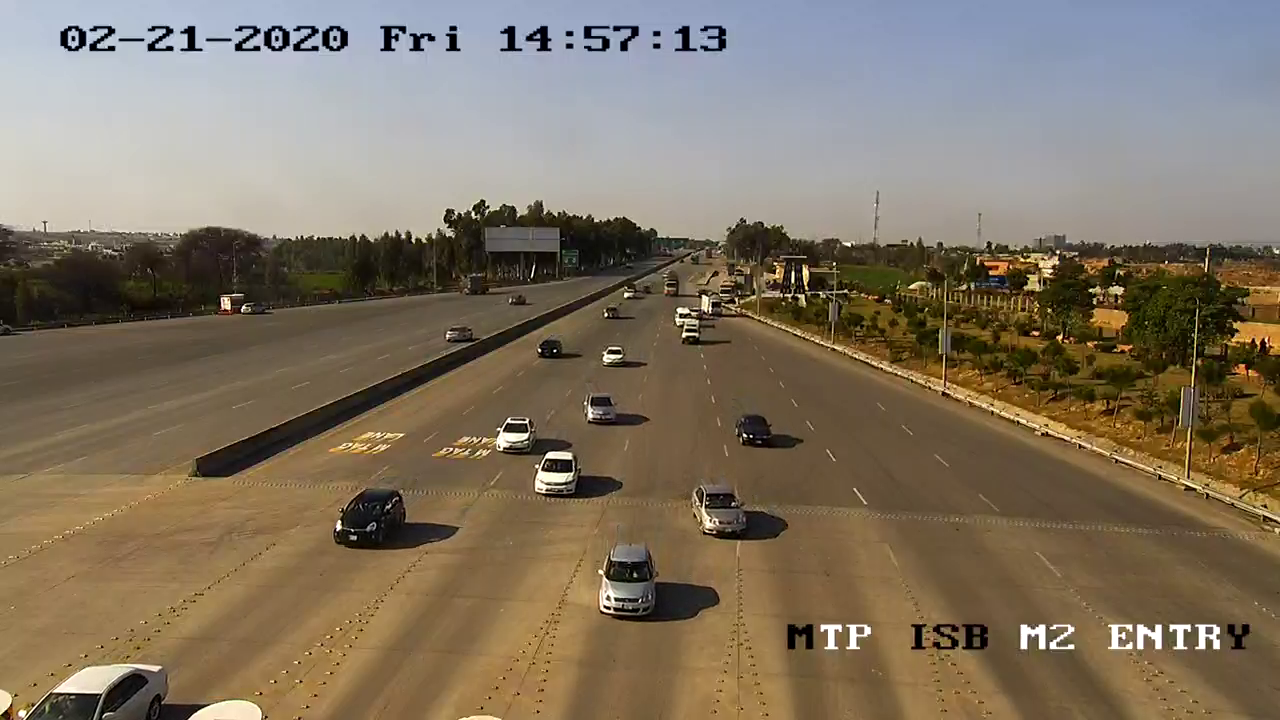f1: (326, 472, 414, 554), (593, 537, 666, 618), (683, 475, 759, 541), (526, 441, 586, 511), (488, 400, 543, 457), (575, 384, 623, 432), (725, 410, 775, 453)
